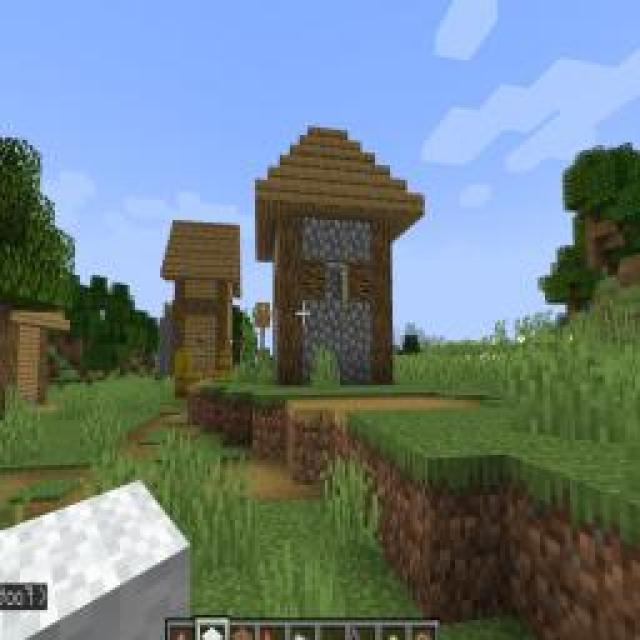Villager: (252, 121, 428, 381), (158, 218, 242, 374)
